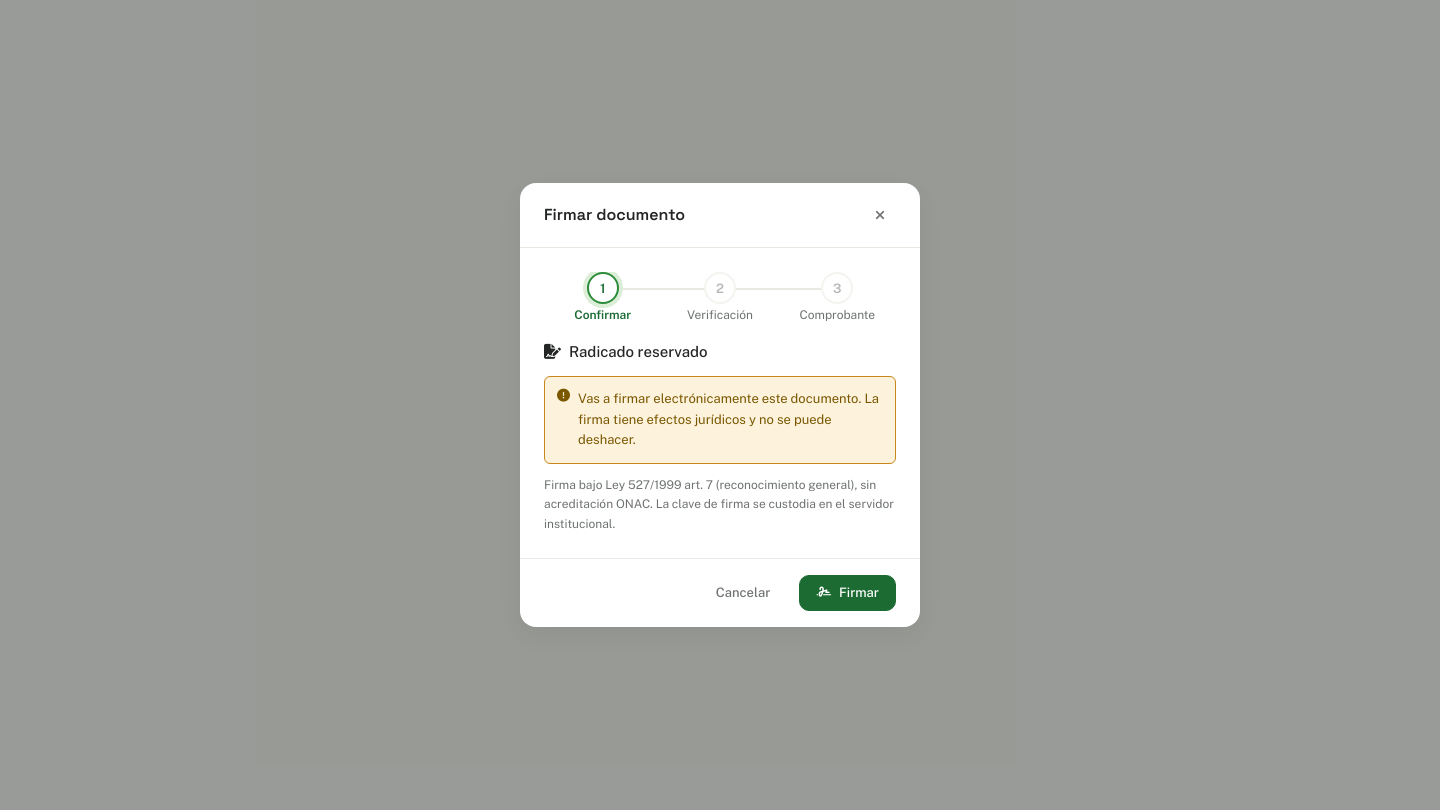
Test: SignAssistant — segundo factor OTP (E06 Inc.2) › fallo de red al confirmar el código NUNCA se interpreta como éxito
Click the 2nd button named "Firmar" at (848, 593), box [799, 575, 896, 611]
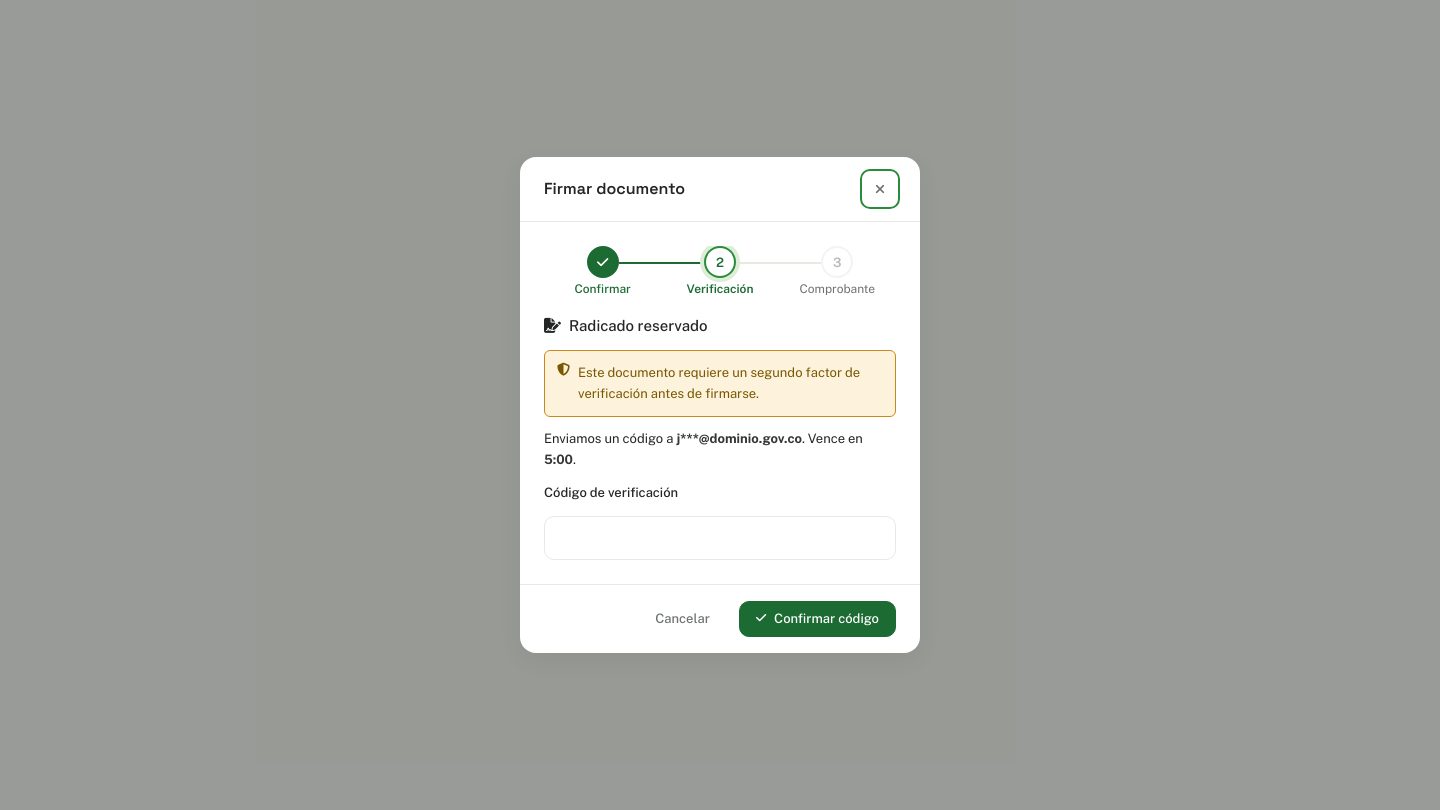
Expected: the field labelled "Código de verificación" is shown
Type "123456" into the field labelled "Código de verificación" at (720, 538), box [544, 516, 896, 560]
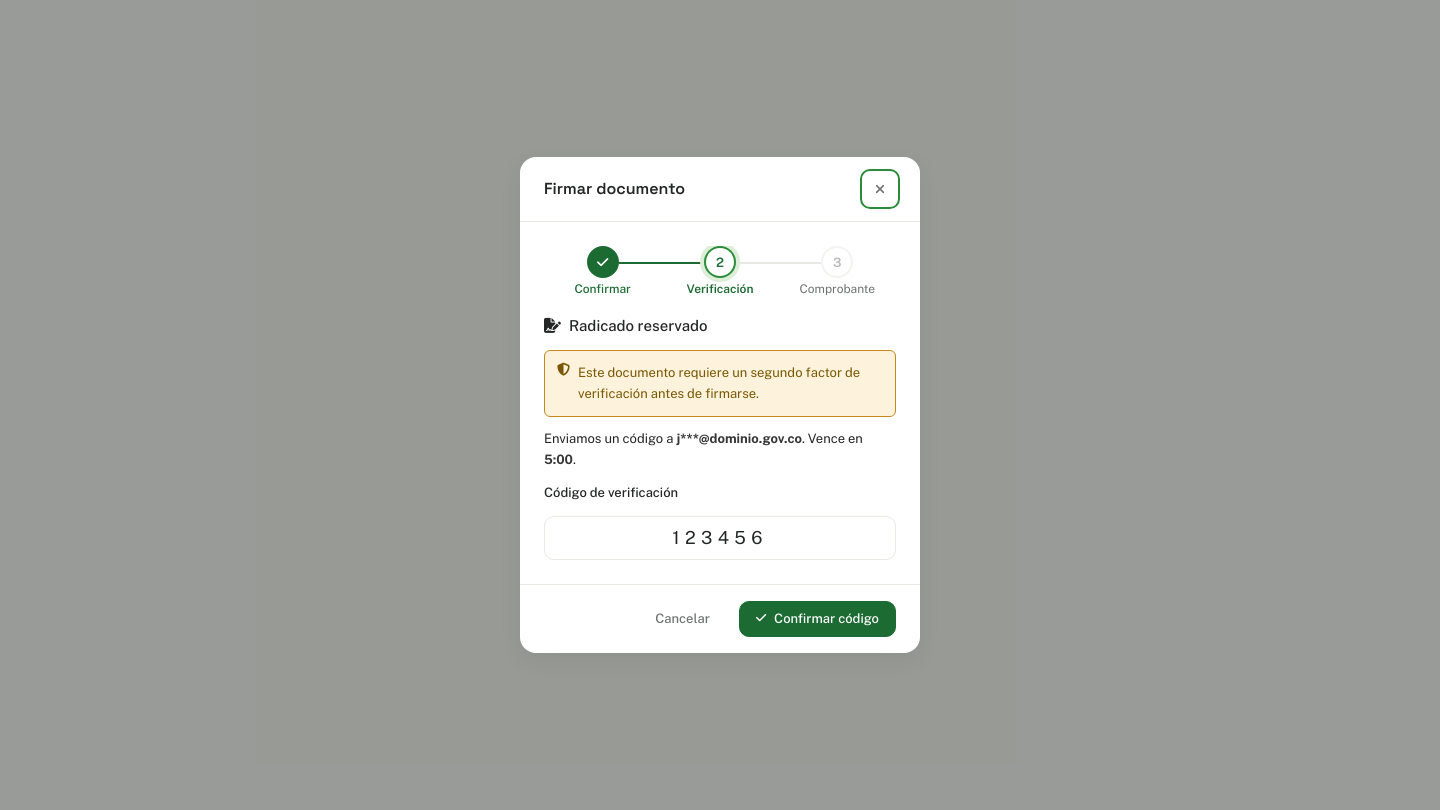
Click the 2nd button named "Confirmar código" at (817, 619), box [739, 601, 896, 637]
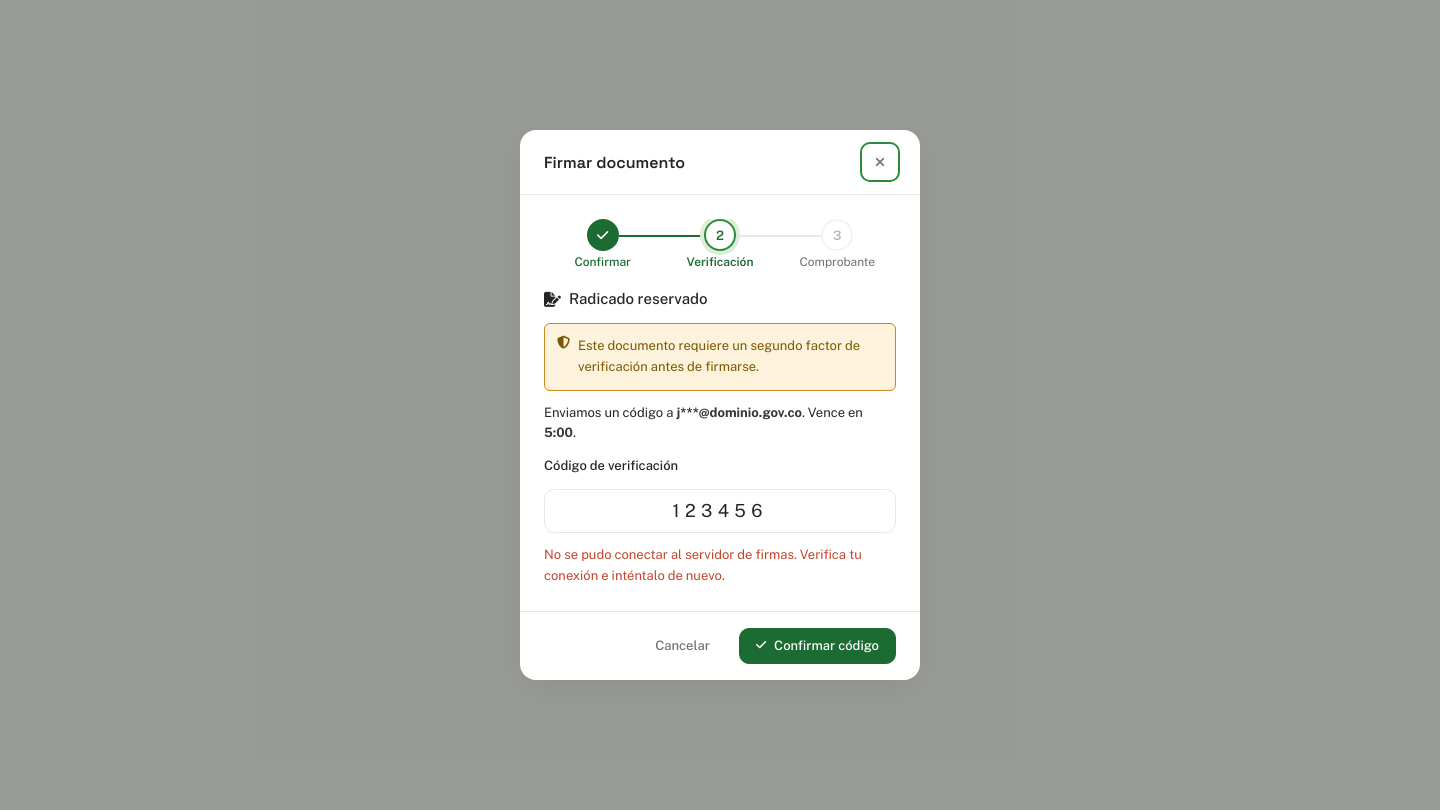
Expected: the text "No se pudo conectar al servidor de firmas" is shown, [544, 547, 862, 583]
